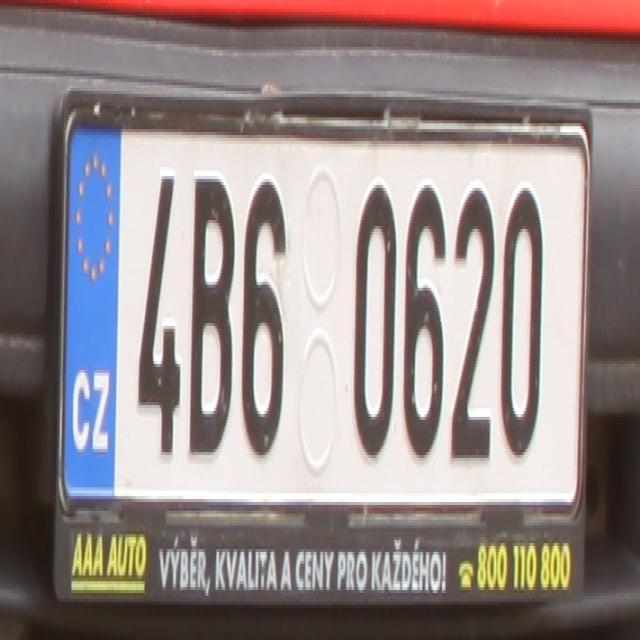0: (499, 179, 542, 464), (352, 173, 394, 461)
2: (447, 182, 495, 461)
4: (135, 170, 179, 449)
6: (400, 176, 446, 461), (242, 176, 286, 464)
B: (188, 179, 233, 464)
